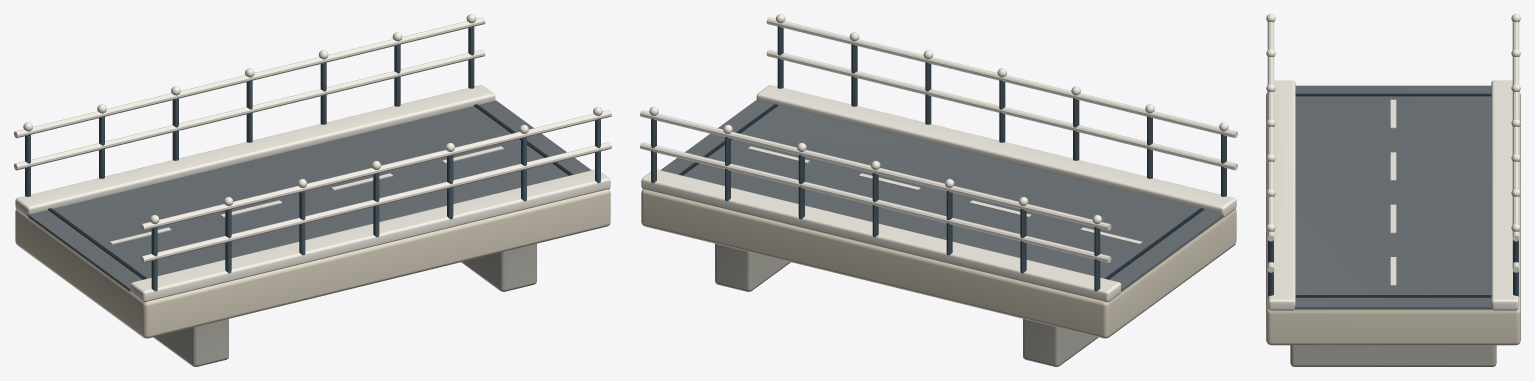
Rendered from bridge.glb.
3 views of the same model, side by side, from view 1: azimuth 30°, elevation 25°; view 2: azimuth 150°, elevation 25°; view 3: azimuth 270°, elevation 25° (orthographic). The views are drawn at different scales.
Parts seen in each view (by area): view 1: walkway, bridge asphalt, bridge deck, bridge upright, bridge pier, deck expansion joint; view 2: walkway, bridge asphalt, bridge deck, bridge upright, bridge pier, deck expansion joint; view 3: bridge asphalt, walkway, bridge deck, bridge pier, deck expansion joint, bridge upright.
Boxes of the visible parts, x1,y1,x2,y2 form: walkway: (14, 14, 611, 302); bridge asphalt: (28, 100, 591, 291); bridge deck: (15, 189, 610, 338); bridge upright: (25, 26, 600, 291); bridge pier: (153, 243, 536, 366); deck expansion joint: (48, 104, 572, 279); walkway: (640, 14, 1237, 302); bridge asphalt: (660, 100, 1223, 291); bridge deck: (641, 189, 1236, 338); bridge upright: (651, 26, 1226, 291); bridge pier: (715, 243, 1098, 366); deck expansion joint: (679, 104, 1203, 279); bridge asphalt: (1295, 85, 1491, 309); walkway: (1266, 14, 1520, 310); bridge deck: (1266, 92, 1520, 345); bridge pier: (1290, 345, 1496, 366); deck expansion joint: (1295, 93, 1491, 297); bridge upright: (1268, 240, 1518, 296).
Size of the model in its own units: 3.8 by 1.35 by 1.85.
